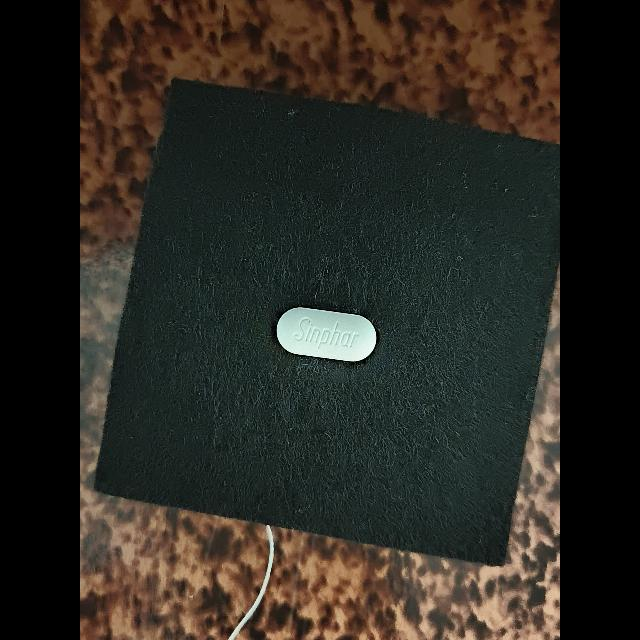Intact Pill: (276, 307, 377, 362)
